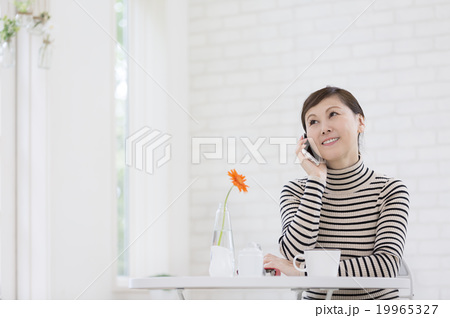phone: (296, 131, 324, 173)
talk: (295, 100, 349, 173)
